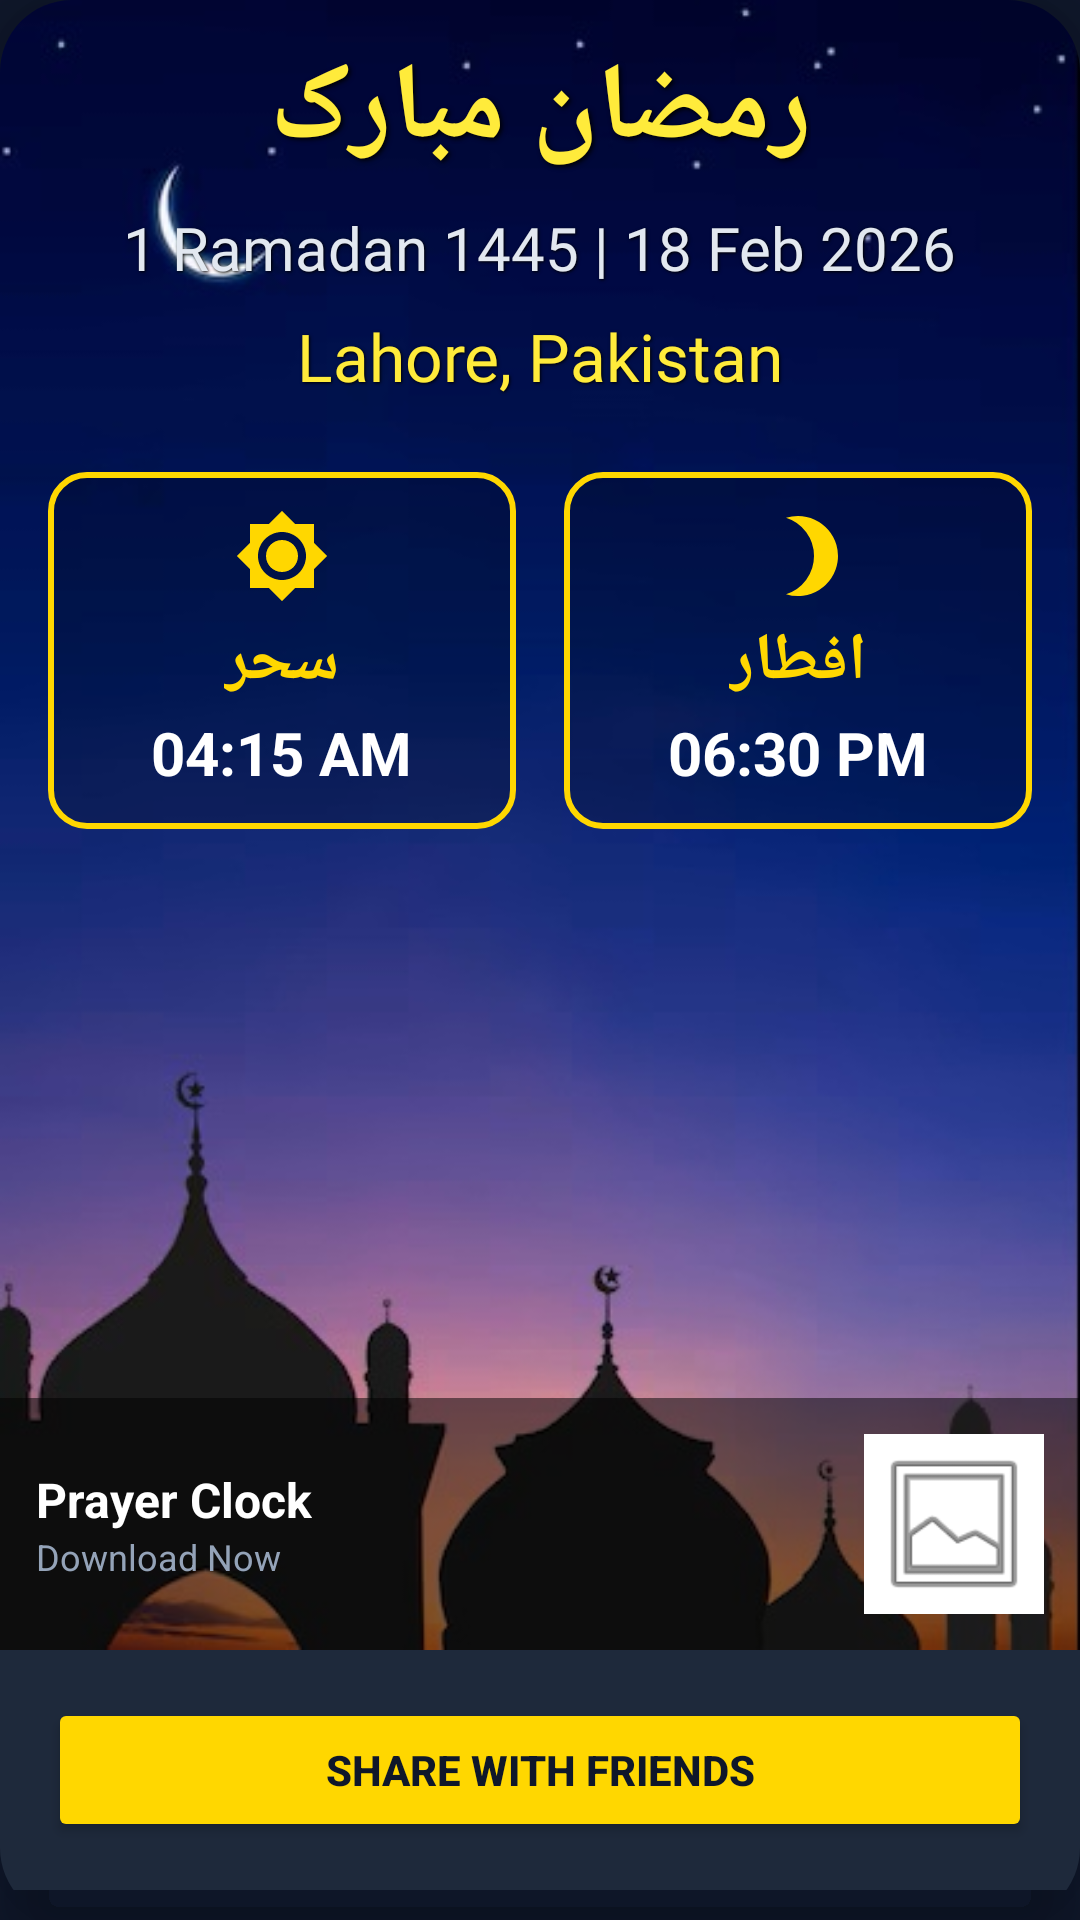

Icon click points for this 1080px×1920px phone screenshot, format [x,y]:
gallery: [954,1524]
sehr: [282,556]
